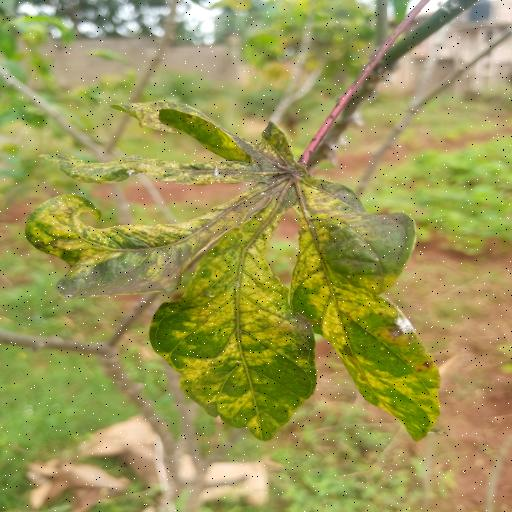Cassava_Mosaic: (17, 96, 450, 445)
